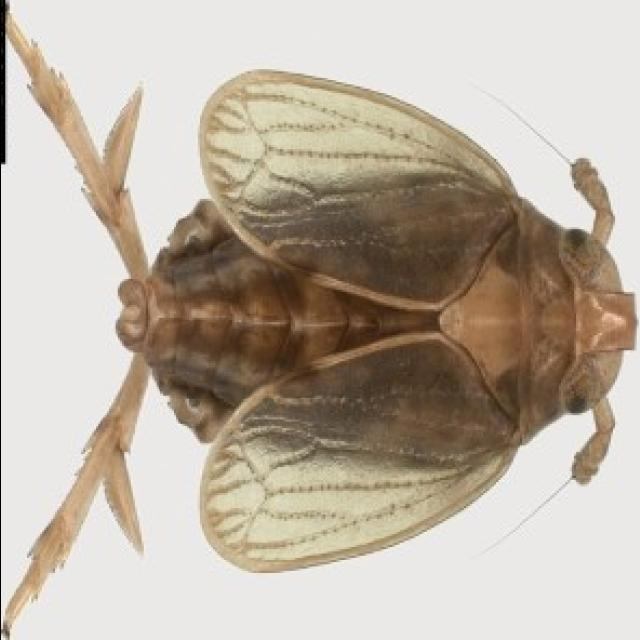brown plant hopper: (4, 37, 636, 636)
